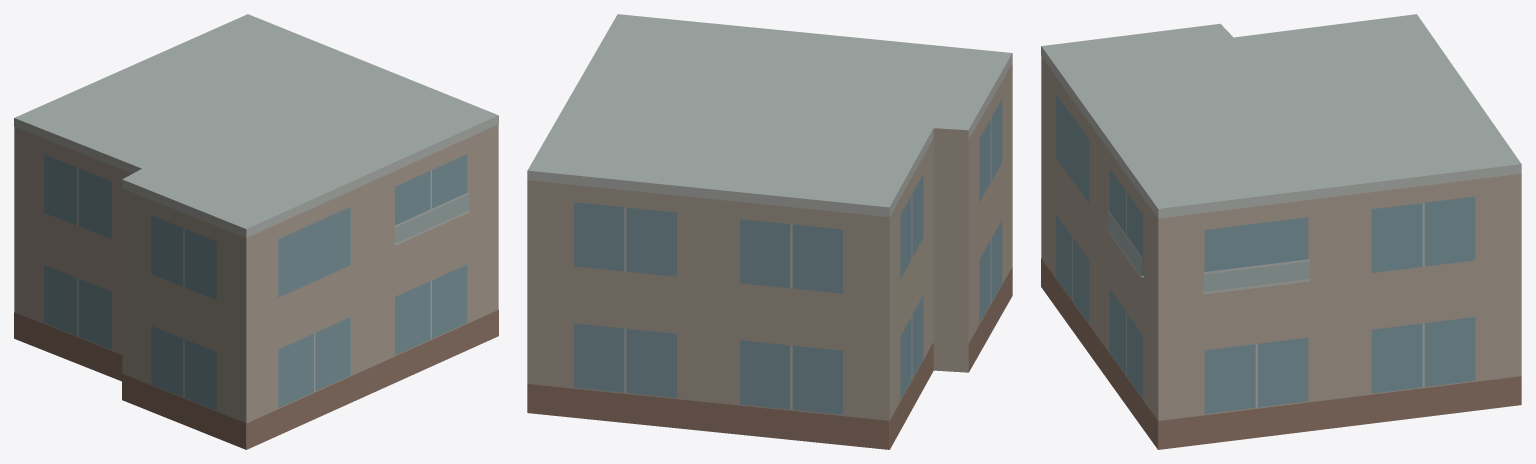
The model's file is survey-upis-32907203.glb.
The picture shows the model from 3 angles, left to right: view 1: azimuth 30°, elevation 25°; view 2: azimuth 150°, elevation 25°; view 3: azimuth 270°, elevation 25°; orthographic projection. The views are drawn at different scales.
Parts seen in each view (by area): view 1: survey-upis-32907203.tmp; view 2: survey-upis-32907203.tmp; view 3: survey-upis-32907203.tmp.
Part boxes in pixels (<box>): survey-upis-32907203.tmp: <box>14,14,498,449</box>; survey-upis-32907203.tmp: <box>527,14,1012,449</box>; survey-upis-32907203.tmp: <box>1041,14,1521,449</box>.
Bounding box in the file's own units: 10.6 × 6.1 × 11.04.
